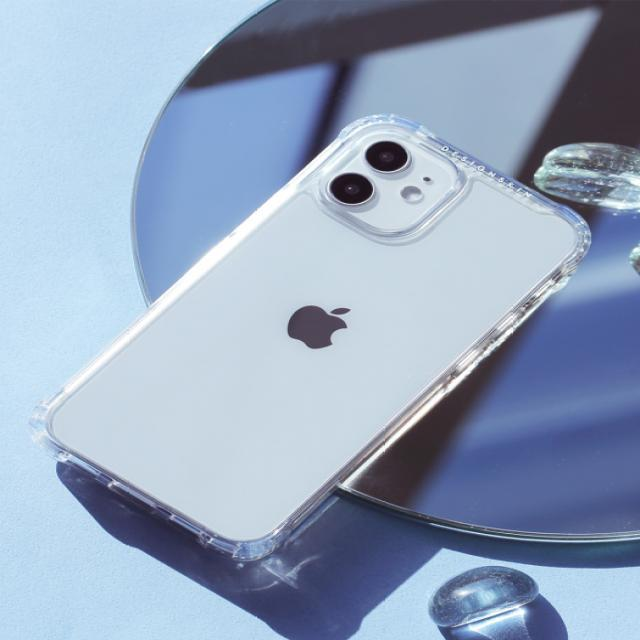phone: (39, 116, 594, 556)
